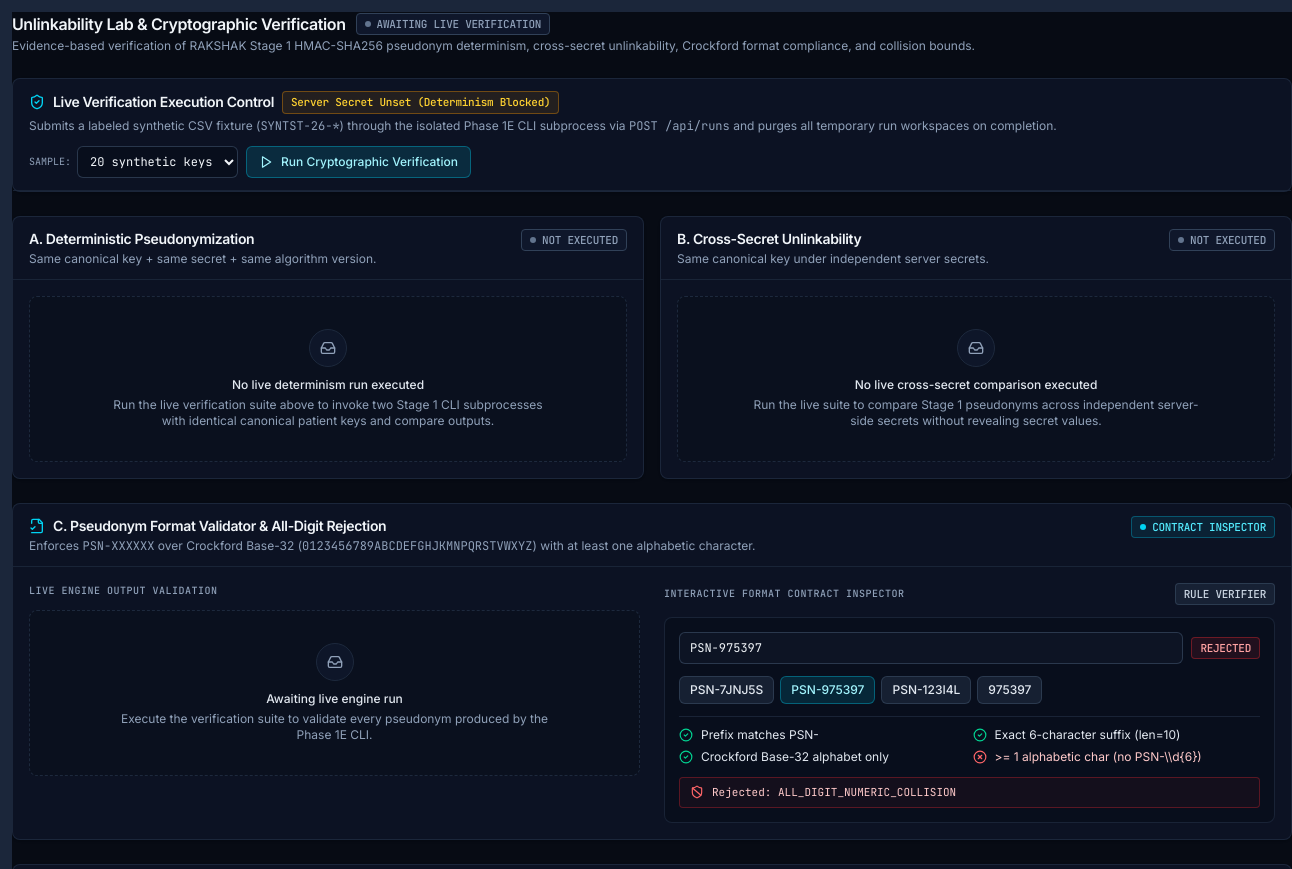
it: UnlinkabilityLabPage live cryptographic verification UI › handles unset RAKSHA_SECRET, invalid API responses, and backend offline states gracefully
Expected: the text "Server Secret Unset (Determinism Blocked)" is shown, x1=282 y1=91 x2=559 y2=114
Click the button "Run Cryptographic Verification": (358, 162) x1=246 y1=146 x2=471 y2=178
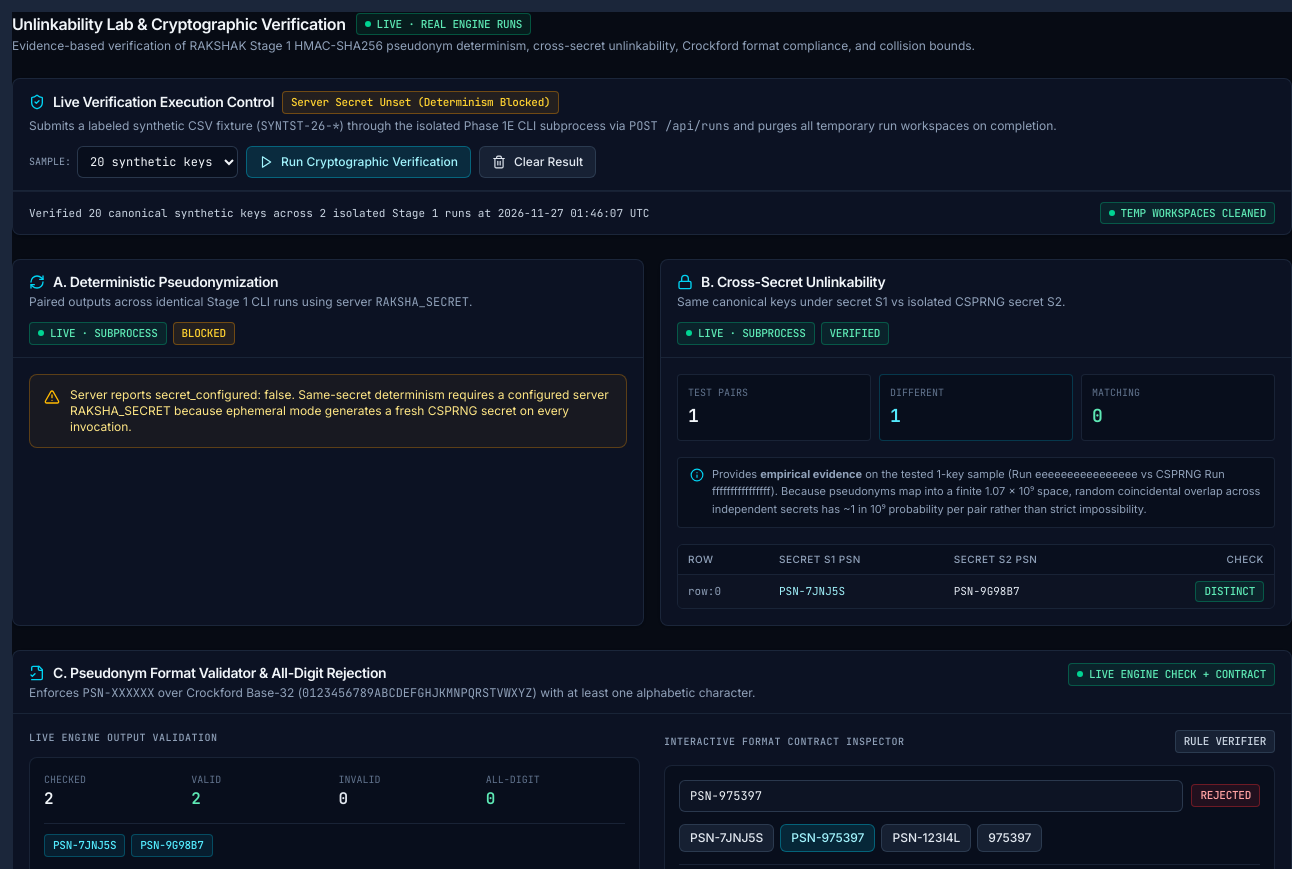
Result: the element with test id "scenario-determinism" is shown at x1=12 y1=259 x2=644 y2=626
Result: the text "BLOCKED" is shown at x1=172 y1=322 x2=235 y2=344
Result: the text "VERIFIED" is shown at x1=820 y1=322 x2=889 y2=344
Click the button "Run Cryptographic Verification": (358, 162) x1=246 y1=146 x2=471 y2=178
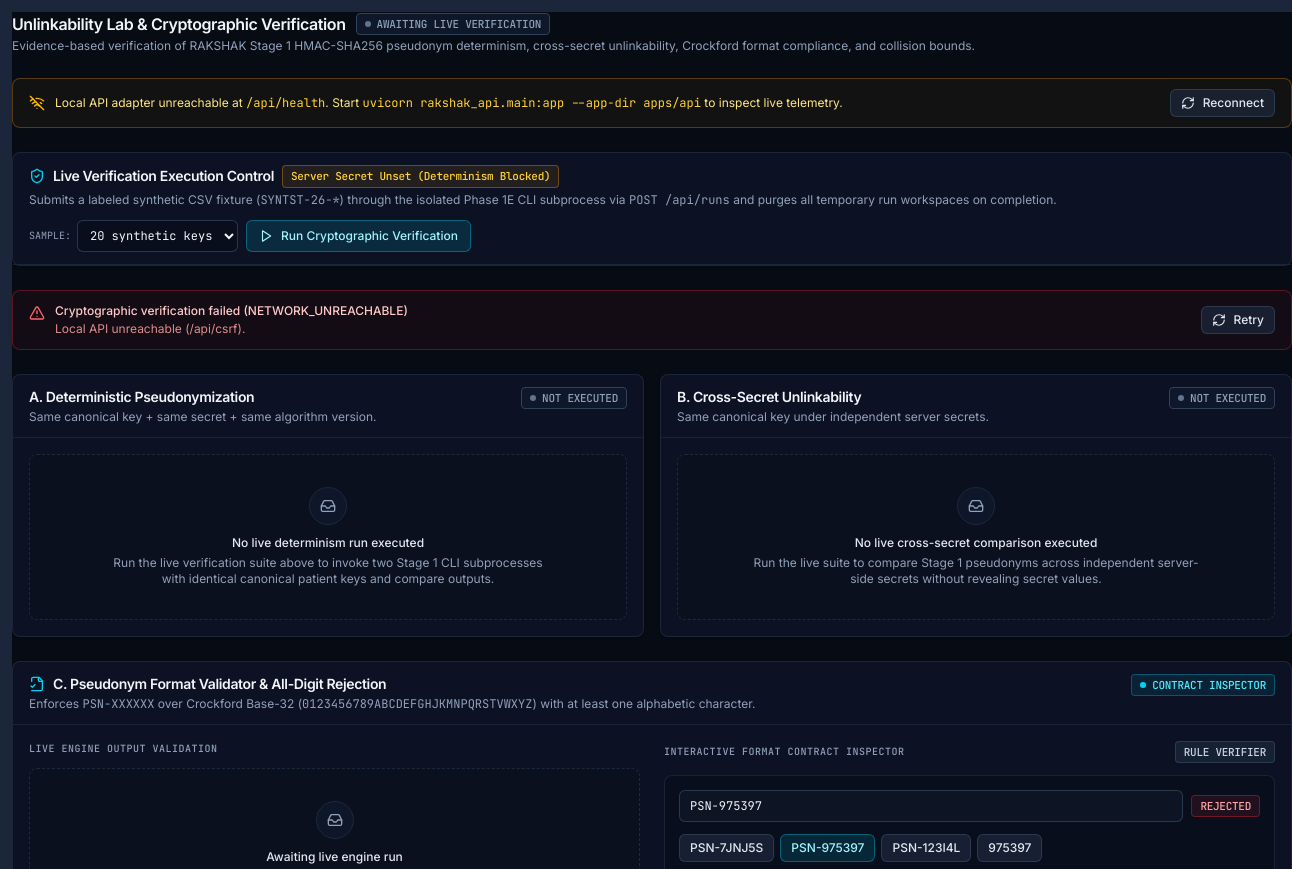
Result: the 2nd message shows "NETWORK_UNREACHABLE" at x1=55 y1=302 x2=408 y2=318
